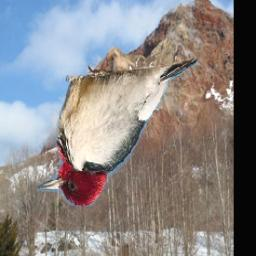Woodpecker: (36, 58, 198, 206)
